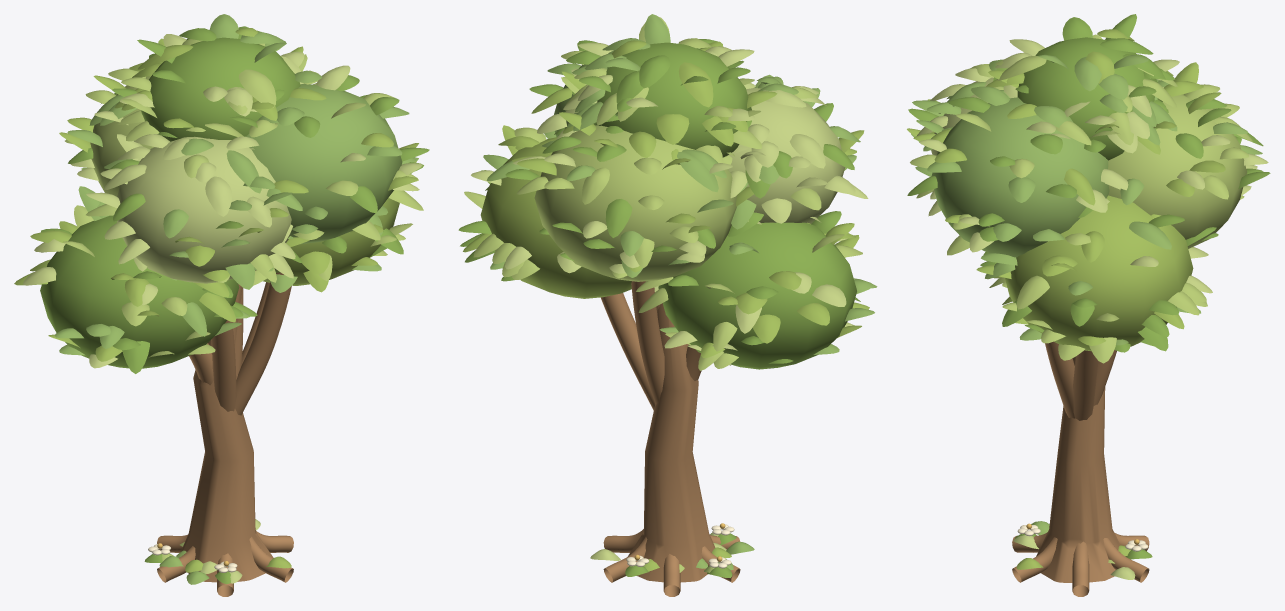
3 renders of one model, left to right at view 1: azimuth 30°, elevation 25°; view 2: azimuth 150°, elevation 25°; view 3: azimuth 270°, elevation 25°, orthographic.
Parts seen in each view (by area): view 1: Soft crown core.003, Soft crown core, Soft crown core.004, Sculpted orchard trunk, Soft crown core.005, Branch 4, Soft crown core.001, Branch 3, Soft crown core.002, Orchard leaf.410, Orchard leaf.255, Orchard leaf.296 (+5 smaller); view 2: Soft crown core, Soft crown core.002, Sculpted orchard trunk, Soft crown core.005, Soft crown core.001, Soft crown core.003, Branch 2, Branch 1, Orchard leaf.437, Orchard leaf.409, Orchard leaf.183, Orchard leaf.211 (+10 smaller); view 3: Soft crown core.001, Soft crown core.004, Sculpted orchard trunk, Soft crown core.002, Soft crown core.005, Branch 1, Branch 4, Grounded root, Grounded root.001, Orchard leaf.134, Grounded root.005, Orchard leaf.088 (+15 smaller).
Part boxes in pixels (x1,y1,x2,y2): Soft crown core.003: (117, 138, 291, 283); Soft crown core: (40, 215, 239, 368); Soft crown core.004: (246, 83, 402, 244); Sculpted orchard trunk: (181, 285, 273, 582); Soft crown core.005: (141, 37, 300, 141); Branch 4: (235, 272, 291, 415); Soft crown core.001: (263, 198, 399, 285); Branch 3: (211, 320, 236, 411); Soft crown core.002: (90, 76, 153, 196); Orchard leaf.410: (238, 69, 276, 107); Orchard leaf.255: (205, 176, 231, 216); Orchard leaf.296: (226, 150, 261, 193); Soft crown core: (658, 222, 856, 369); Soft crown core.002: (534, 125, 736, 281); Sculpted orchard trunk: (628, 303, 715, 582); Soft crown core.005: (594, 42, 751, 157); Soft crown core.001: (480, 137, 631, 298); Soft crown core.003: (728, 87, 845, 223); Branch 2: (631, 281, 664, 405); Branch 1: (600, 293, 655, 410); Orchard leaf.437: (678, 62, 713, 107); Orchard leaf.409: (656, 114, 689, 144); Orchard leaf.183: (677, 152, 718, 192); Orchard leaf.211: (605, 199, 632, 237); Soft crown core.001: (1005, 195, 1193, 351); Soft crown core.004: (931, 97, 1109, 257); Sculpted orchard trunk: (1036, 387, 1120, 582); Soft crown core.002: (1108, 94, 1247, 248); Soft crown core.005: (1017, 37, 1162, 160); Branch 1: (1073, 350, 1098, 420); Branch 4: (1045, 341, 1074, 418); Grounded root: (1072, 541, 1089, 596); Grounded root.001: (1103, 538, 1149, 582); Orchard leaf.134: (1016, 275, 1049, 309); Grounded root.005: (1012, 537, 1057, 582); Orchard leaf.088: (1129, 221, 1171, 249).
Bounding box in the file's own units: 1.56 × 2.06 × 1.28.
